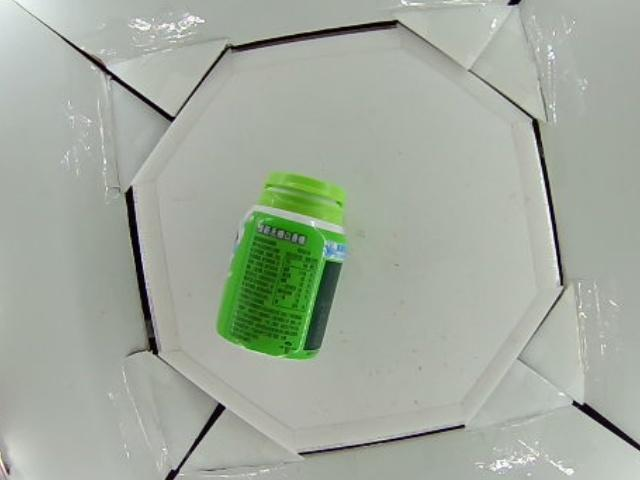Bottle: (215, 175, 348, 361)
